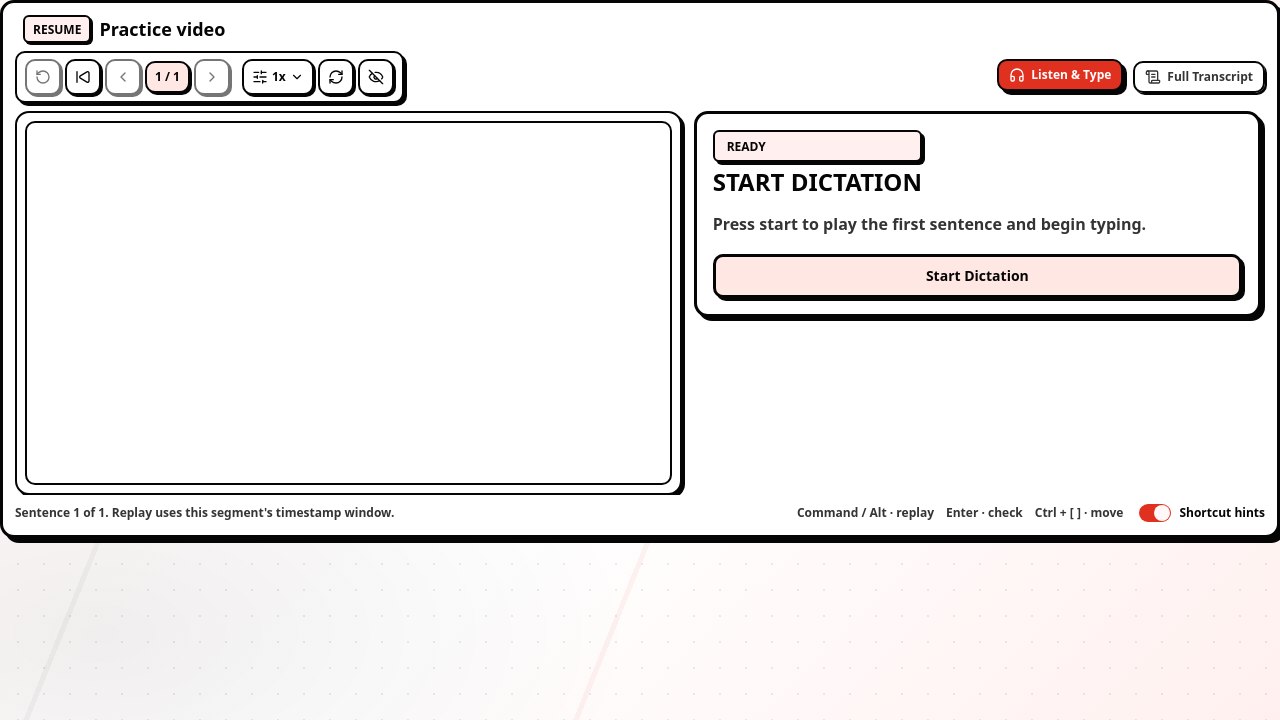
Test: DictationPracticeShell attempts › Check rewrites accepted variant "$5" back to the exact answer
Click the button "Start Dictation".
click(977, 276)  # box [713,254,1242,298]
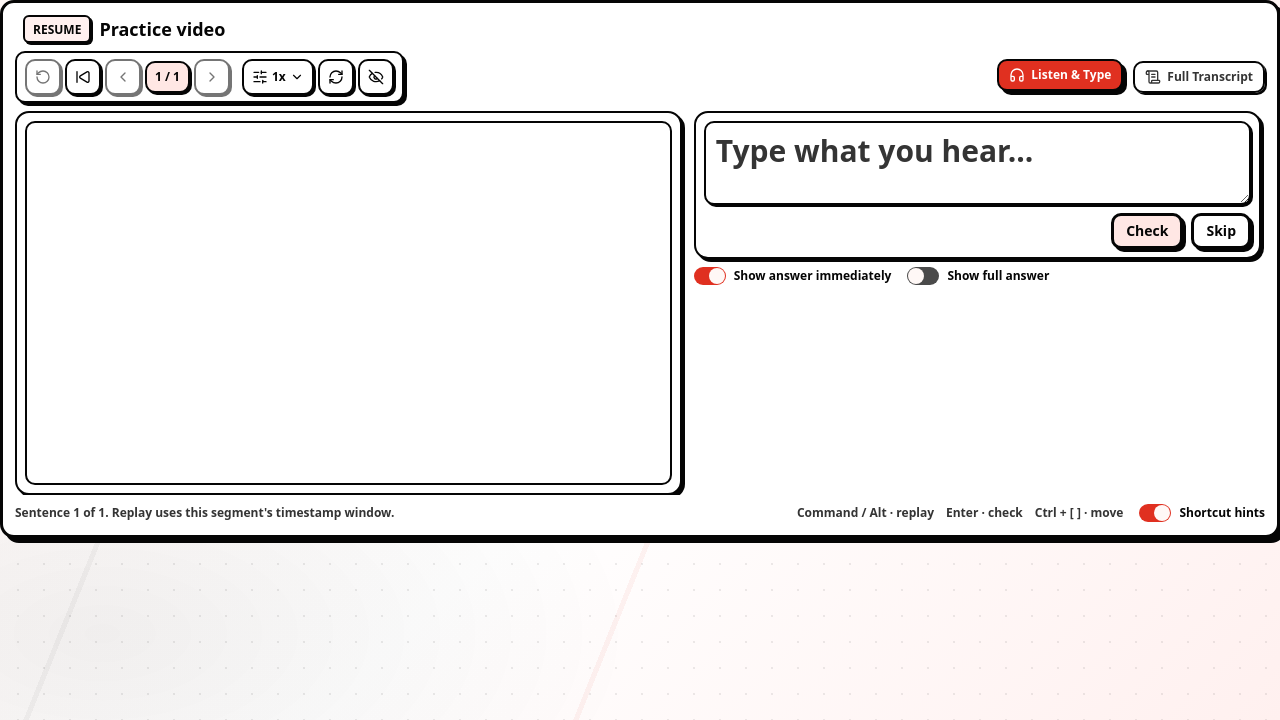
Type "five dollars" into the text box labelled "Type what you hear".
click(977, 163); type("five dollars")  # box [706,123,1249,203]
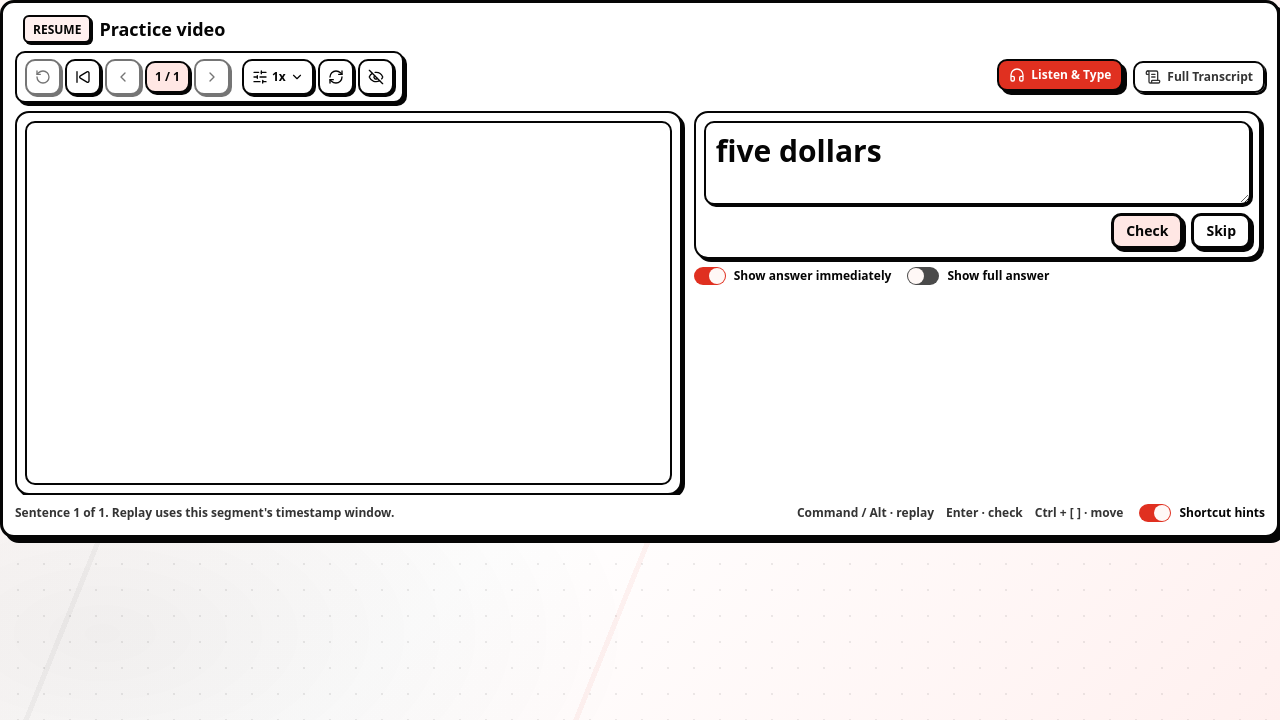
Click the button "Check".
click(1147, 231)  # box [1111,213,1184,249]
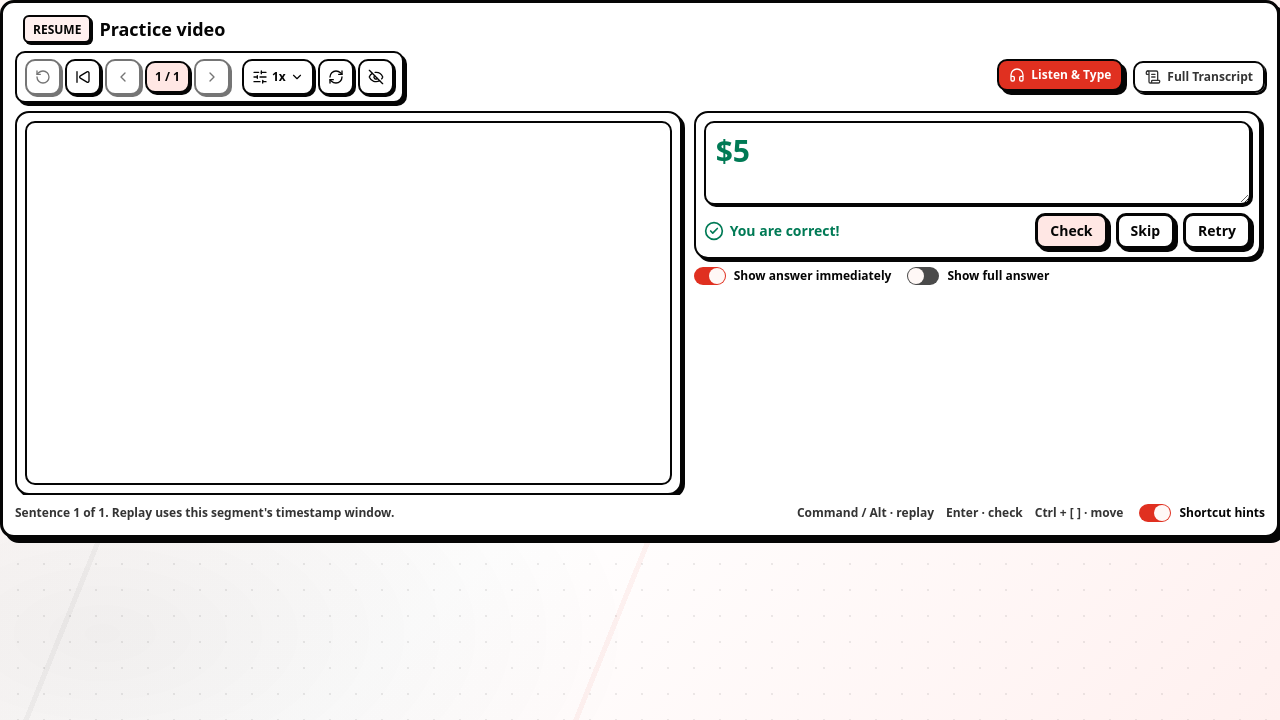
expect the text box named "Type what you hear" holds "$5": met, box [706,123,1249,203]
expect the message reads "You are correct!": met, box [730,221,840,240]
